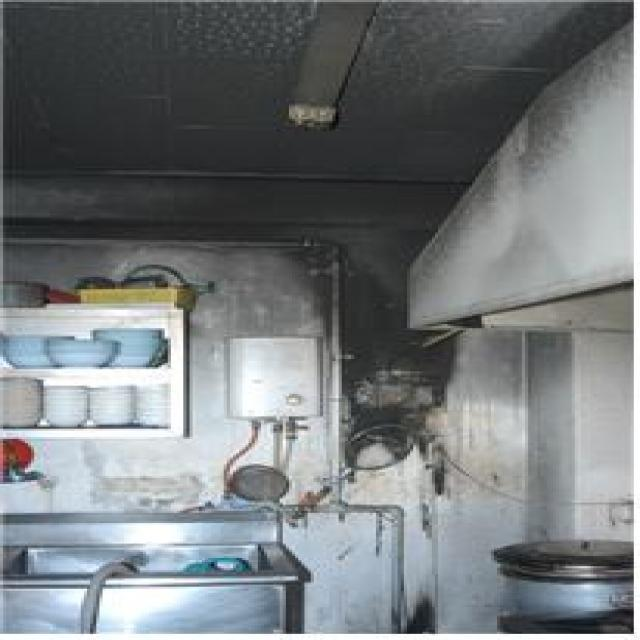Boiler: (208, 328, 352, 438)
